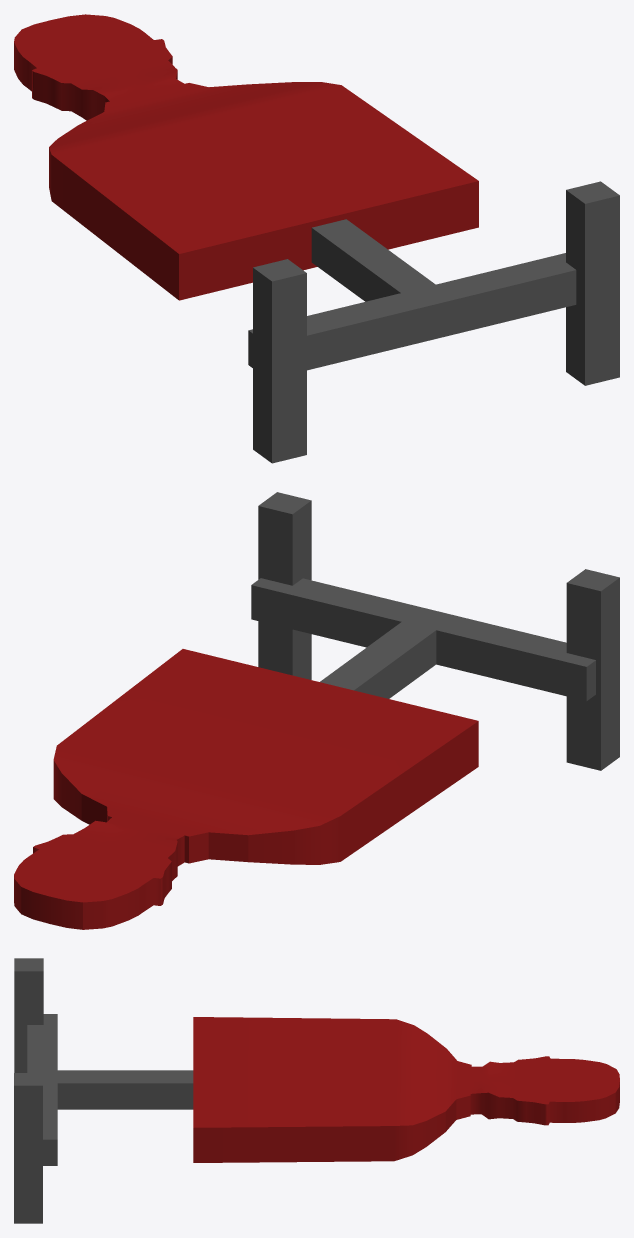
Rendered from cible.fbx.
3 views of the same model, one above another, from view 1: azimuth 30°, elevation 25°; view 2: azimuth 150°, elevation 25°; view 3: azimuth 270°, elevation 25° (orthographic). The views are drawn at different scales.
Visible parts, largest first — view 1: pCube1, pasted__pCube2, pCube4, pCube2, pCube3; view 2: pCube1, pasted__pCube2, pCube4, pCube2, pCube3; view 3: pCube1, pCube3, pCube2, pasted__pCube2, pCube4.
Part boxes in pixels (x1,y1,x2,y2): pCube1: (14,14,478,300); pasted__pCube2: (248,253,576,370); pCube4: (253,259,306,463); pCube2: (566,181,619,385); pCube3: (311,219,442,301); pCube1: (14,649,478,929); pasted__pCube2: (251,578,595,701); pCube4: (566,569,619,770); pCube2: (258,492,311,679); pCube3: (320,622,442,698); pCube1: (193,1017,619,1162); pCube3: (46,1070,193,1109); pCube2: (14,1073,42,1223); pasted__pCube2: (27,1014,57,1165); pCube4: (14,958,43,1072).
Bounding box in the file's own units: 2.93 × 1.48 × 5.84.
